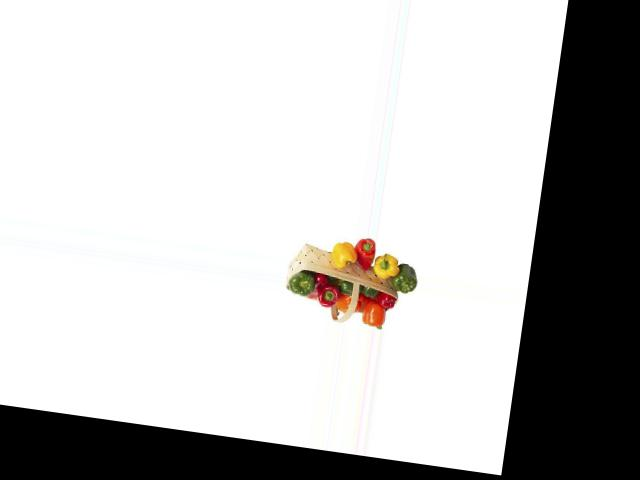bell_pepper: (287, 270, 319, 298)
